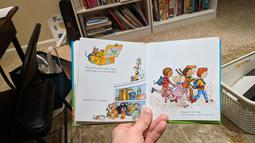text block: (82, 64, 122, 74), (177, 109, 215, 118), (81, 96, 109, 103)
